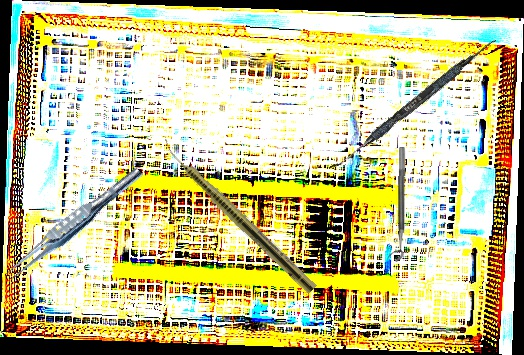Fixation Ring: (386, 146, 407, 263)
Handpiece: (156, 136, 319, 296)
Spatula Surgical: (328, 32, 498, 178)
Tissue Forceps: (2, 160, 146, 287)
